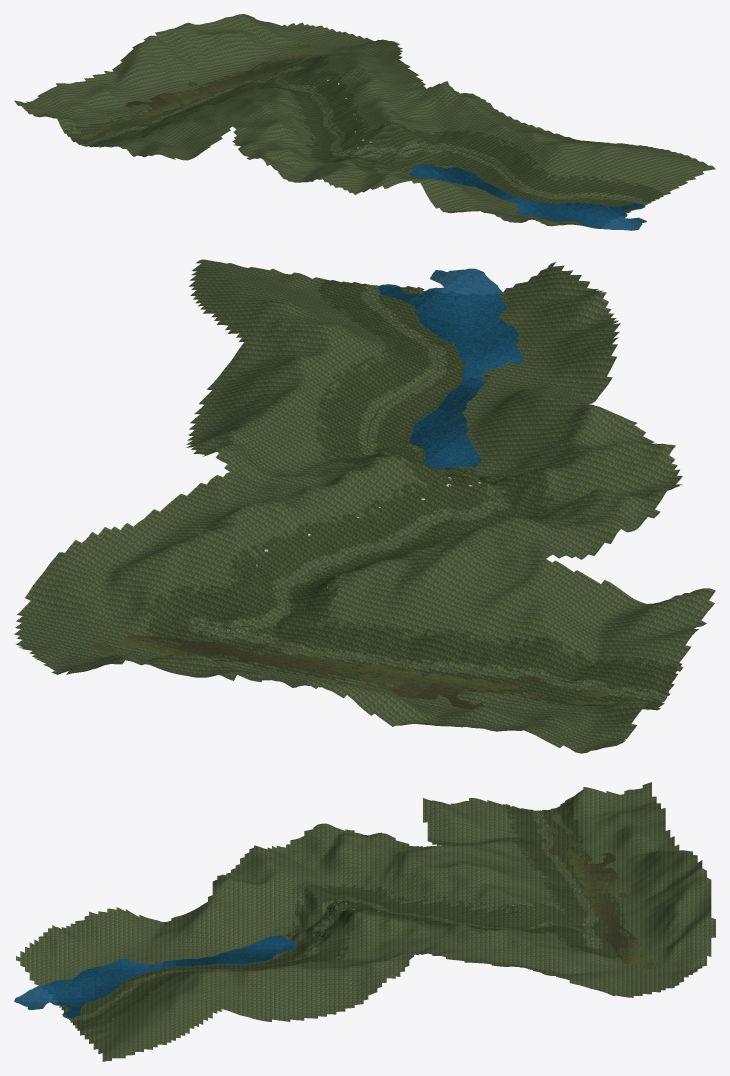
3 views of the same model, one above another, from view 1: azimuth 30°, elevation 25°; view 2: azimuth 150°, elevation 25°; view 3: azimuth 270°, elevation 25° (orthographic). The views are drawn at different scales.
Parts seen in each view (by area): view 1: TERRAIN_VISTA, TERRAIN_TRANSITION, TERRAIN_HERO, LAGO_ESCONDIDO, PEATLAND_PATCHES; view 2: TERRAIN_VISTA, TERRAIN_TRANSITION, TERRAIN_HERO, LAGO_ESCONDIDO, PEATLAND_PATCHES, ROAD_RENDER; view 3: TERRAIN_VISTA, TERRAIN_TRANSITION, LAGO_ESCONDIDO, TERRAIN_HERO, PEATLAND_PATCHES.
Boxes of the visible parts, x1,y1,x2,y2 form: TERRAIN_VISTA: (14, 14, 715, 228); TERRAIN_TRANSITION: (64, 55, 666, 212); TERRAIN_HERO: (81, 66, 649, 205); LAGO_ESCONDIDO: (408, 164, 646, 230); PEATLAND_PATCHES: (79, 44, 311, 139); TERRAIN_VISTA: (14, 259, 715, 753); TERRAIN_TRANSITION: (142, 279, 681, 710); TERRAIN_HERO: (186, 284, 668, 701); LAGO_ESCONDIDO: (378, 268, 524, 468); PEATLAND_PATCHES: (92, 635, 617, 709); ROAD_RENDER: (194, 285, 666, 697); TERRAIN_VISTA: (16, 782, 715, 1061); TERRAIN_TRANSITION: (59, 800, 628, 1032); LAGO_ESCONDIDO: (14, 935, 297, 1018); TERRAIN_HERO: (69, 810, 602, 1021); PEATLAND_PATCHES: (546, 813, 660, 969).
Size of the model in its own units: 13800 by 945 by 15341.
Materials: 15 (15 with a texture image).
